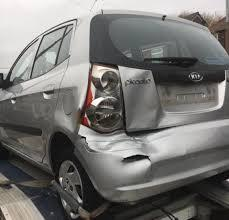dent: (70, 118, 168, 180)
